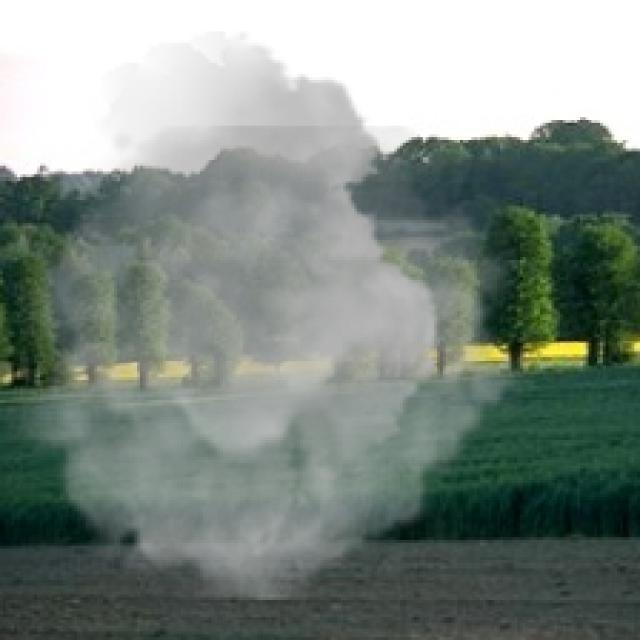Smoke: (0, 31, 537, 600)
